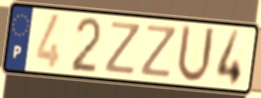2: (70, 15, 104, 74)
4: (34, 11, 64, 73), (214, 27, 244, 89)
U: (174, 22, 217, 86)
Z: (138, 22, 180, 80), (102, 19, 144, 77)
